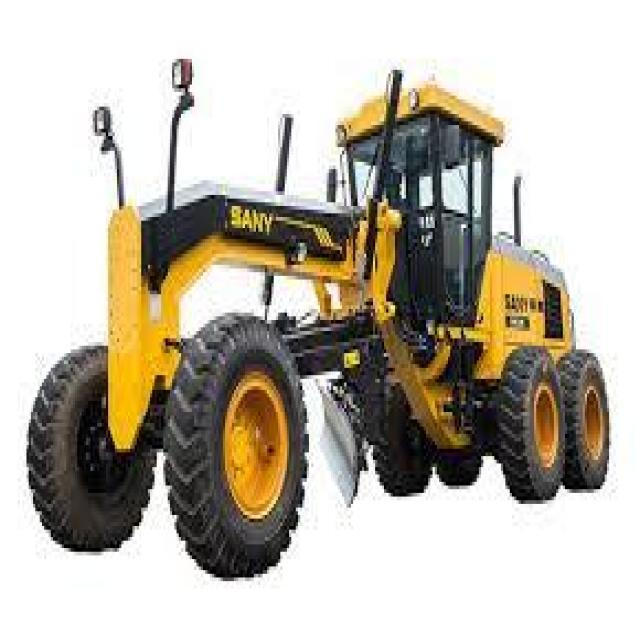Grader: (22, 44, 638, 570)
